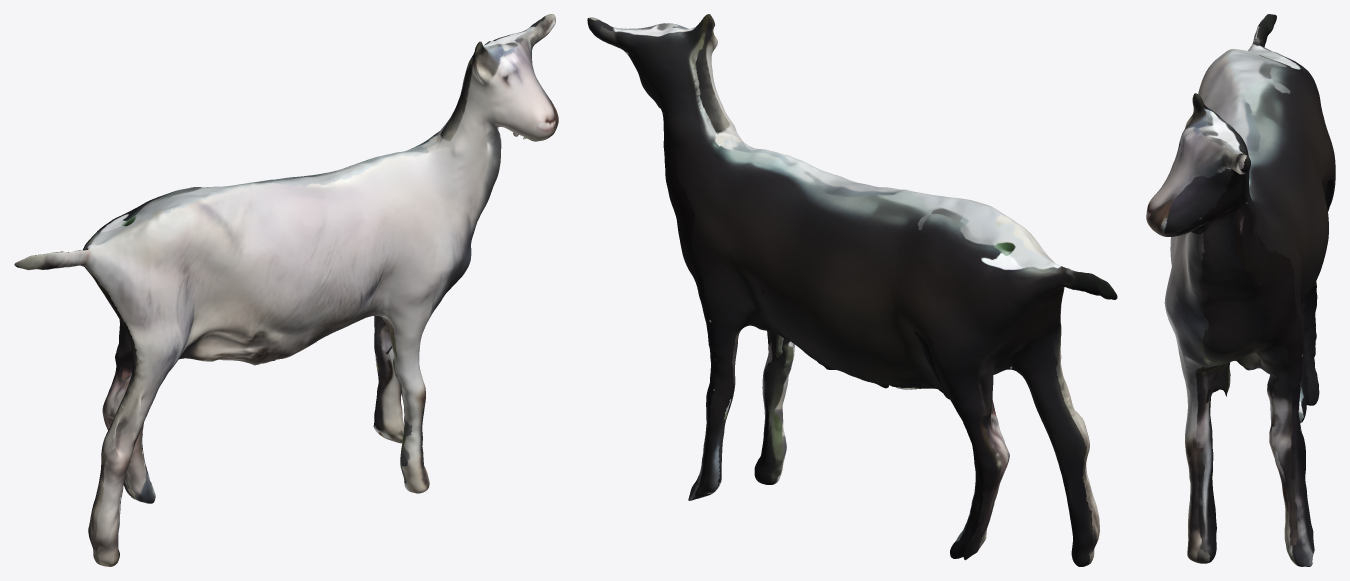
The model's file is joven.glb.
3 views of the same model, side by side, from view 1: azimuth 30°, elevation 25°; view 2: azimuth 150°, elevation 25°; view 3: azimuth 270°, elevation 25° (orthographic). The views are drawn at different scales.
Visible parts, largest first — view 1: mesh; view 2: mesh; view 3: mesh.
Boxes of the visible parts, bbox=[...] form: mesh: bbox=[14, 14, 558, 566]; mesh: bbox=[587, 14, 1117, 566]; mesh: bbox=[1146, 14, 1335, 566].
Bounding box in the file's own units: 1.6 × 1.27 × 0.4333.
Materials: 1 (1 with a texture image).
